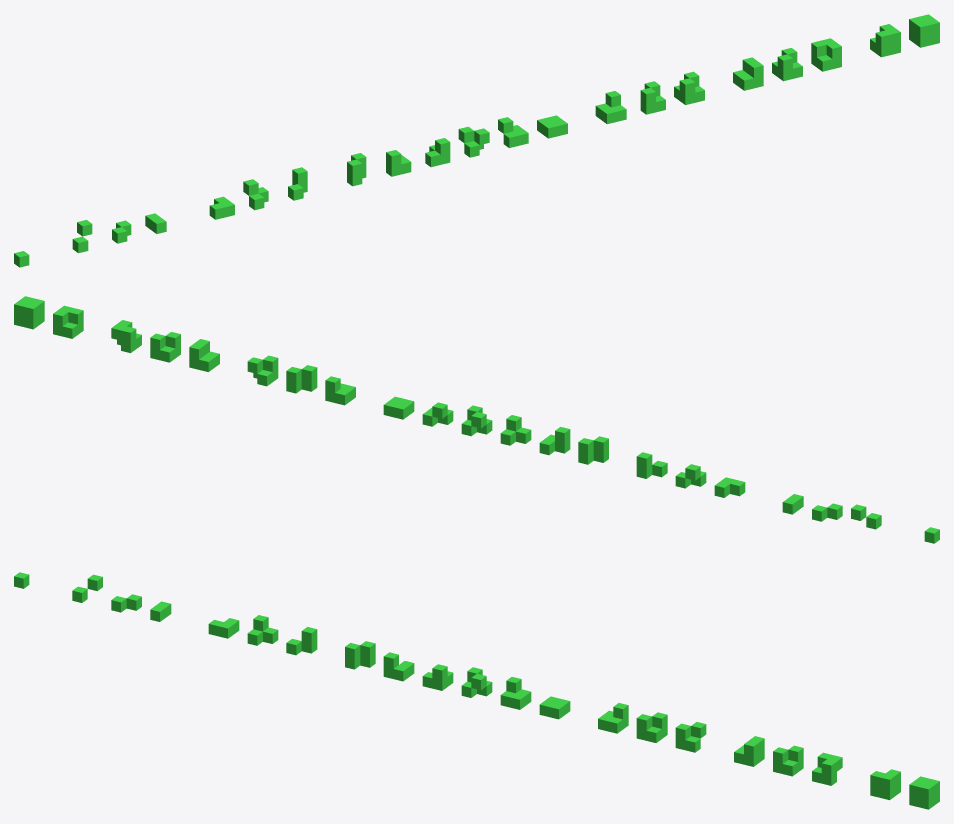
File: MC_CUBES_16.glb
3 views of the same model, one above another, from view 1: azimuth 30°, elevation 25°; view 2: azimuth 150°, elevation 25°; view 3: azimuth 330°, elevation 25° (orthographic).
Parts seen in each view (by area): view 1: 11111111_cube, 11101011_cube, 01111111_cube, 01101111_cube, 01011111_cube, 01011011_cube, 01001111_cube, 10100101_cube, 01010111_cube, 10000111_cube, 00100111_cube, 01010101_cube (+3 smaller); view 2: 01111111_cube, 11111111_cube, 01011111_cube, 01010111_cube, 01101111_cube, 01010101_cube, 01011011_cube, 11101011_cube, 10100101_cube, 01001111_cube, 00100111_cube, 00010111_cube (+4 smaller); view 3: 11111111_cube, 01010111_cube, 01111111_cube, 01011111_cube, 01011011_cube, 01010101_cube, 11101011_cube, 10000111_cube, 01101111_cube, 01001111_cube, 10100101_cube, 10000101_cube (+5 smaller).
Part boxes in pixels (<box>): 11111111_cube: <box>909,14,939,47</box>; 11101011_cube: <box>811,38,841,71</box>; 01111111_cube: <box>870,24,900,57</box>; 01101111_cube: <box>733,57,763,90</box>; 01011111_cube: <box>772,48,802,81</box>; 01011011_cube: <box>674,71,704,104</box>; 01001111_cube: <box>595,91,626,124</box>; 10100101_cube: <box>458,126,489,157</box>; 01010111_cube: <box>640,81,665,114</box>; 10000111_cube: <box>498,117,528,147</box>; 00100111_cube: <box>425,138,450,167</box>; 01010101_cube: <box>347,153,366,186</box>; 01111111_cube: <box>53,305,83,338</box>; 11111111_cube: <box>14,296,44,329</box>; 01011111_cube: <box>150,332,180,362</box>; 01010111_cube: <box>286,365,317,393</box>; 01101111_cube: <box>189,339,219,371</box>; 01010101_cube: <box>578,436,608,464</box>; 01011011_cube: <box>247,355,278,386</box>; 11101011_cube: <box>111,320,141,353</box>; 10100101_cube: <box>461,405,492,436</box>; 01001111_cube: <box>325,376,355,405</box>; 00100111_cube: <box>500,415,531,445</box>; 00010111_cube: <box>539,427,570,455</box>; 11111111_cube: <box>909,776,939,809</box>; 01010111_cube: <box>636,712,667,742</box>; 01111111_cube: <box>870,769,900,800</box>; 01011111_cube: <box>773,745,803,776</box>; 01011011_cube: <box>675,722,706,752</box>; 01010101_cube: <box>345,641,375,669</box>; 11101011_cube: <box>812,752,842,785</box>; 10000111_cube: <box>500,677,531,709</box>; 01101111_cube: <box>734,736,764,766</box>; 01001111_cube: <box>598,703,628,733</box>; 10100101_cube: <box>461,667,492,697</box>; 10000101_cube: <box>247,615,278,645</box>.
Size of the model in its own units: 47 by 1 by 1.
